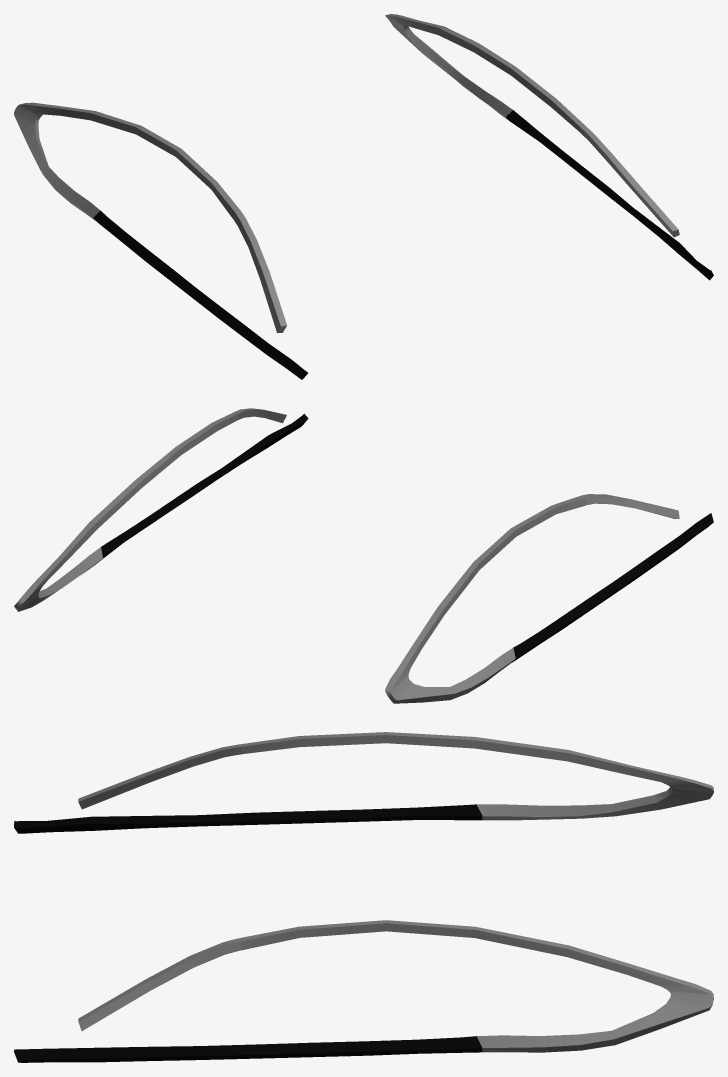
File: rcfDoorPlenum.obj
3 renders of one model, top to bottom at view 1: azimuth 30°, elevation 25°; view 2: azimuth 150°, elevation 25°; view 3: azimuth 270°, elevation 25°, orthographic. The views are drawn at different scales.
Parts seen in each view (by area): view 1: rcfDoorPlenum; view 2: rcfDoorPlenum; view 3: rcfDoorPlenum.
Part boxes in pixels (box(x1,y1,x2,y2)): rcfDoorPlenum: box(14, 14, 713, 379); rcfDoorPlenum: box(14, 408, 713, 703); rcfDoorPlenum: box(14, 732, 713, 1062).
Size of the model in its own units: 158 by 37.25 by 196.
Materials: 2 (1 with a texture image).
